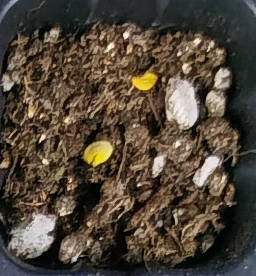pepper seed: (26, 55, 139, 224), (49, 24, 209, 114)
